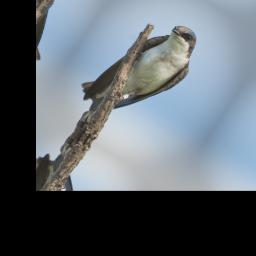Swallow: (70, 0, 210, 143)
